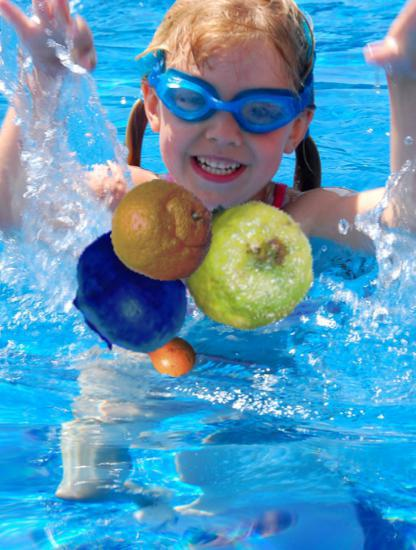Granadilla: (141, 328, 197, 384)
Huckleberry: (63, 228, 194, 359)
Limes: (180, 197, 314, 331)
Mandarine: (110, 179, 215, 284)
